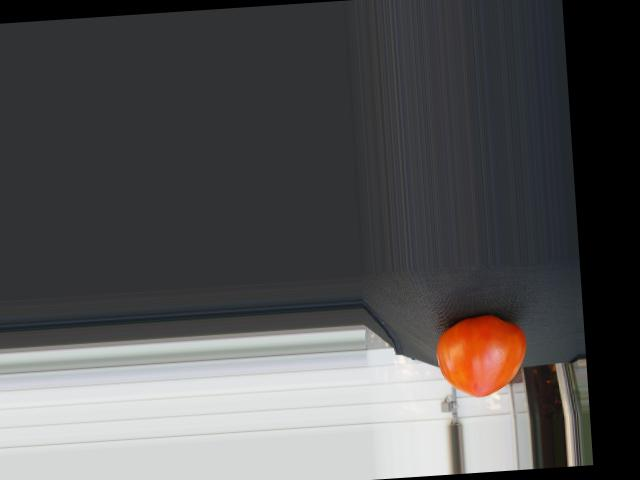tomato: (434, 312, 529, 400)
